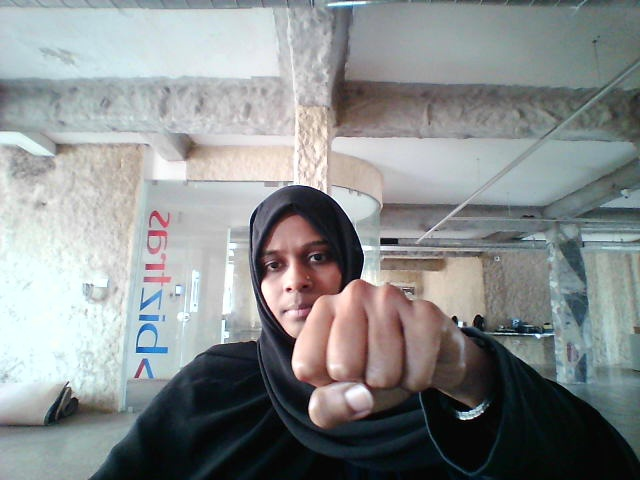YES: (290, 272, 478, 449)
